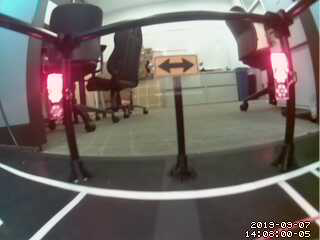Left_Right_sign: (148, 54, 200, 74)
Traffic_light_red: (270, 51, 290, 108), (48, 74, 64, 124)
